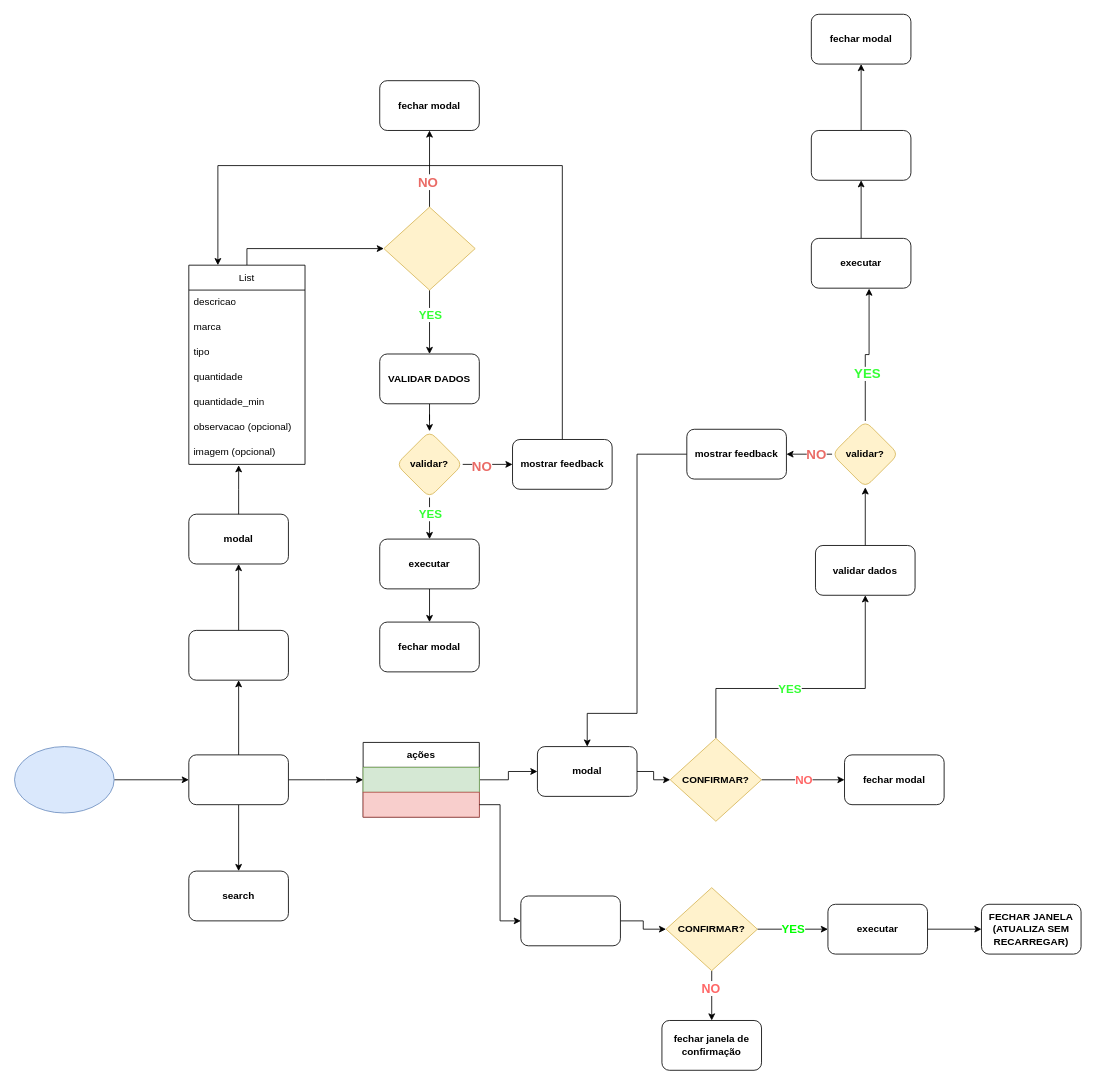
Some shapes in this 1096 by 1086 pixel diagram are drawn without their labels. The shapes that lost their labels are listed below. From the top down, each one's centre as x and y in pixels, then its label:
(x=860, y=155): mensagem de sucesso
(x=429, y=248): confirm?
(x=238, y=655): cadastrar ativo (botao)
(x=238, y=779): index
(x=420, y=779): editar
(x=420, y=804): excluir
(x=570, y=920): JANELA CONFIRMAÇÃO
